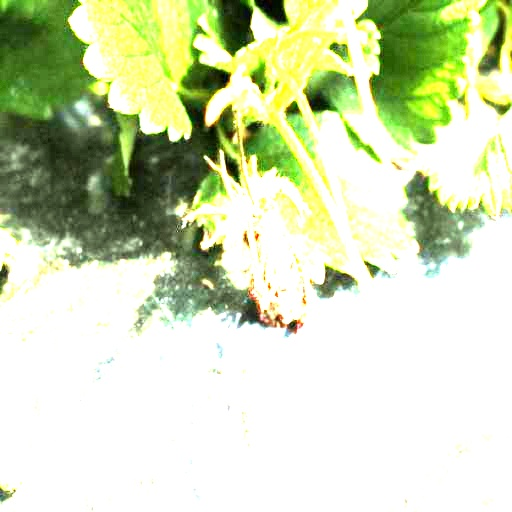Gray Mold: (183, 150, 314, 335)
